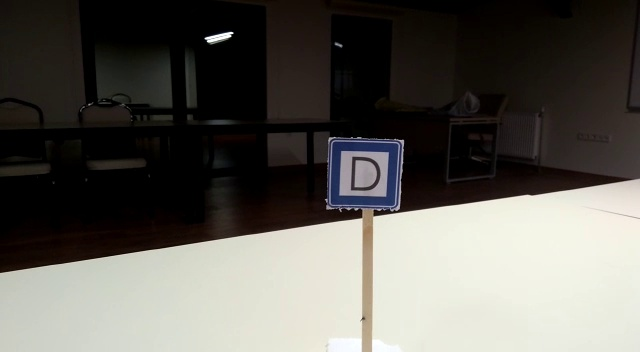durak: (323, 138, 405, 210)
